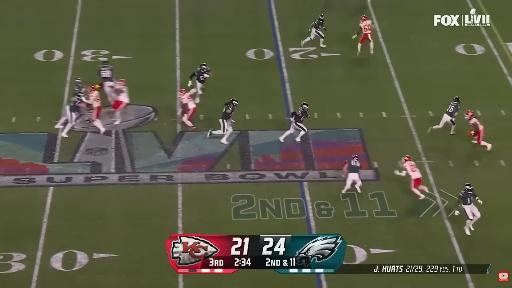Helmet: (402, 152, 413, 162), (465, 110, 474, 121), (86, 85, 97, 94), (464, 183, 473, 193), (454, 96, 462, 104), (76, 91, 84, 99), (231, 99, 239, 107), (118, 80, 127, 87), (75, 78, 82, 86), (179, 88, 186, 96), (200, 64, 207, 71), (302, 103, 308, 111), (361, 15, 367, 22), (320, 14, 325, 21), (352, 155, 359, 160), (103, 62, 109, 67)
Jersey: (69, 93, 84, 113), (180, 93, 196, 111), (190, 69, 209, 84), (404, 162, 421, 178), (115, 86, 130, 103), (459, 191, 477, 205), (86, 91, 101, 107), (446, 102, 460, 118), (99, 66, 113, 82), (291, 110, 308, 123), (222, 103, 234, 120), (469, 118, 483, 131), (347, 160, 360, 173), (360, 20, 371, 33), (313, 20, 324, 30), (74, 84, 82, 91)
Player: (395, 156, 428, 199), (455, 183, 482, 235), (207, 99, 238, 144), (55, 91, 85, 137), (428, 97, 460, 135), (279, 103, 310, 142), (82, 86, 105, 134), (465, 111, 492, 150), (188, 63, 211, 103), (301, 14, 326, 47), (111, 79, 129, 124), (353, 16, 373, 55), (342, 155, 362, 193), (178, 89, 196, 131), (98, 61, 114, 103), (74, 78, 84, 92)
